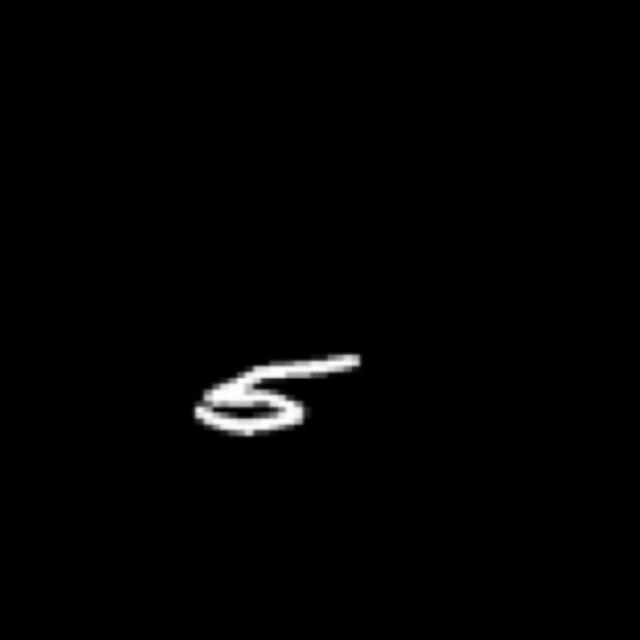five -5-: (181, 348, 369, 442)
